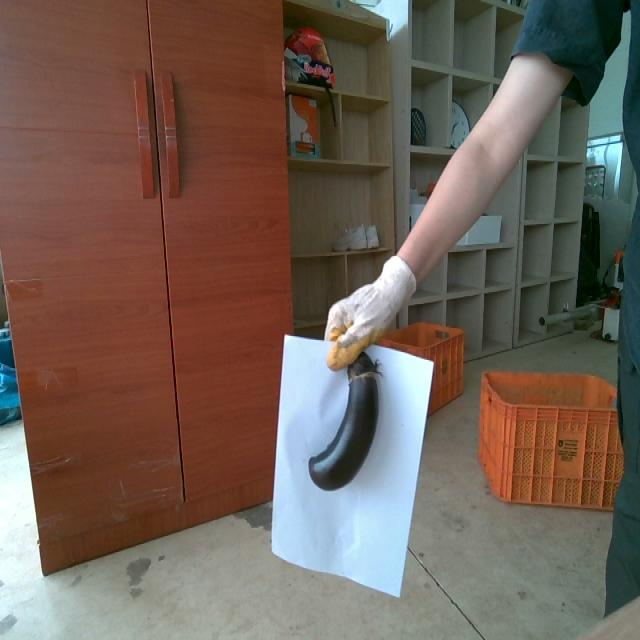Egg plant: (308, 352, 377, 489)
